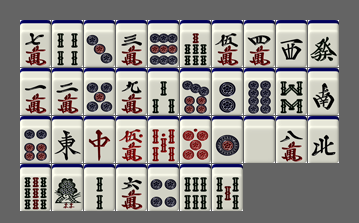0m: (116, 116, 147, 163)
0p: (180, 116, 211, 163)
0s: (148, 116, 179, 163)
1m: (20, 68, 51, 115)
1p: (212, 116, 243, 163)
1s: (52, 164, 83, 211)
1z: (52, 116, 83, 163)
2m: (52, 68, 83, 115)
2p: (212, 68, 243, 115)
2s: (84, 164, 115, 211)
2z: (308, 68, 339, 115)
3m: (116, 20, 147, 67)
3p: (84, 20, 115, 67)
3s: (148, 68, 179, 115)
3z: (276, 20, 307, 67)
4m: (244, 20, 275, 67)
4p: (148, 164, 179, 211)
4s: (52, 20, 83, 67)
4z: (308, 116, 339, 163)
5m: (212, 20, 243, 67)
5p: (84, 68, 115, 115)
5s: (212, 164, 243, 211)
5z: (244, 116, 275, 163)
6m: (116, 164, 147, 211)
6p: (20, 116, 51, 163)
6s: (180, 164, 211, 211)
6z: (308, 20, 339, 67)
7m: (20, 20, 51, 67)
7p: (180, 68, 211, 115)
7s: (180, 20, 211, 67)
7z: (84, 116, 115, 163)
8m: (276, 116, 307, 163)
8p: (244, 68, 275, 115)
8s: (276, 68, 307, 115)
9m: (116, 68, 147, 115)
9p: (148, 20, 179, 67)
9s: (20, 164, 51, 211)
